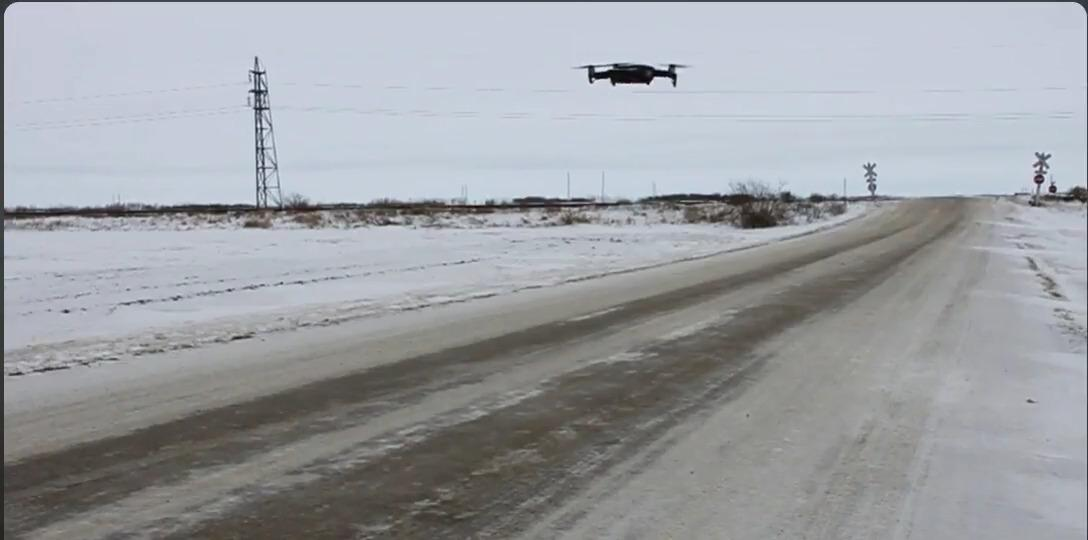dr: (558, 15, 752, 110)
